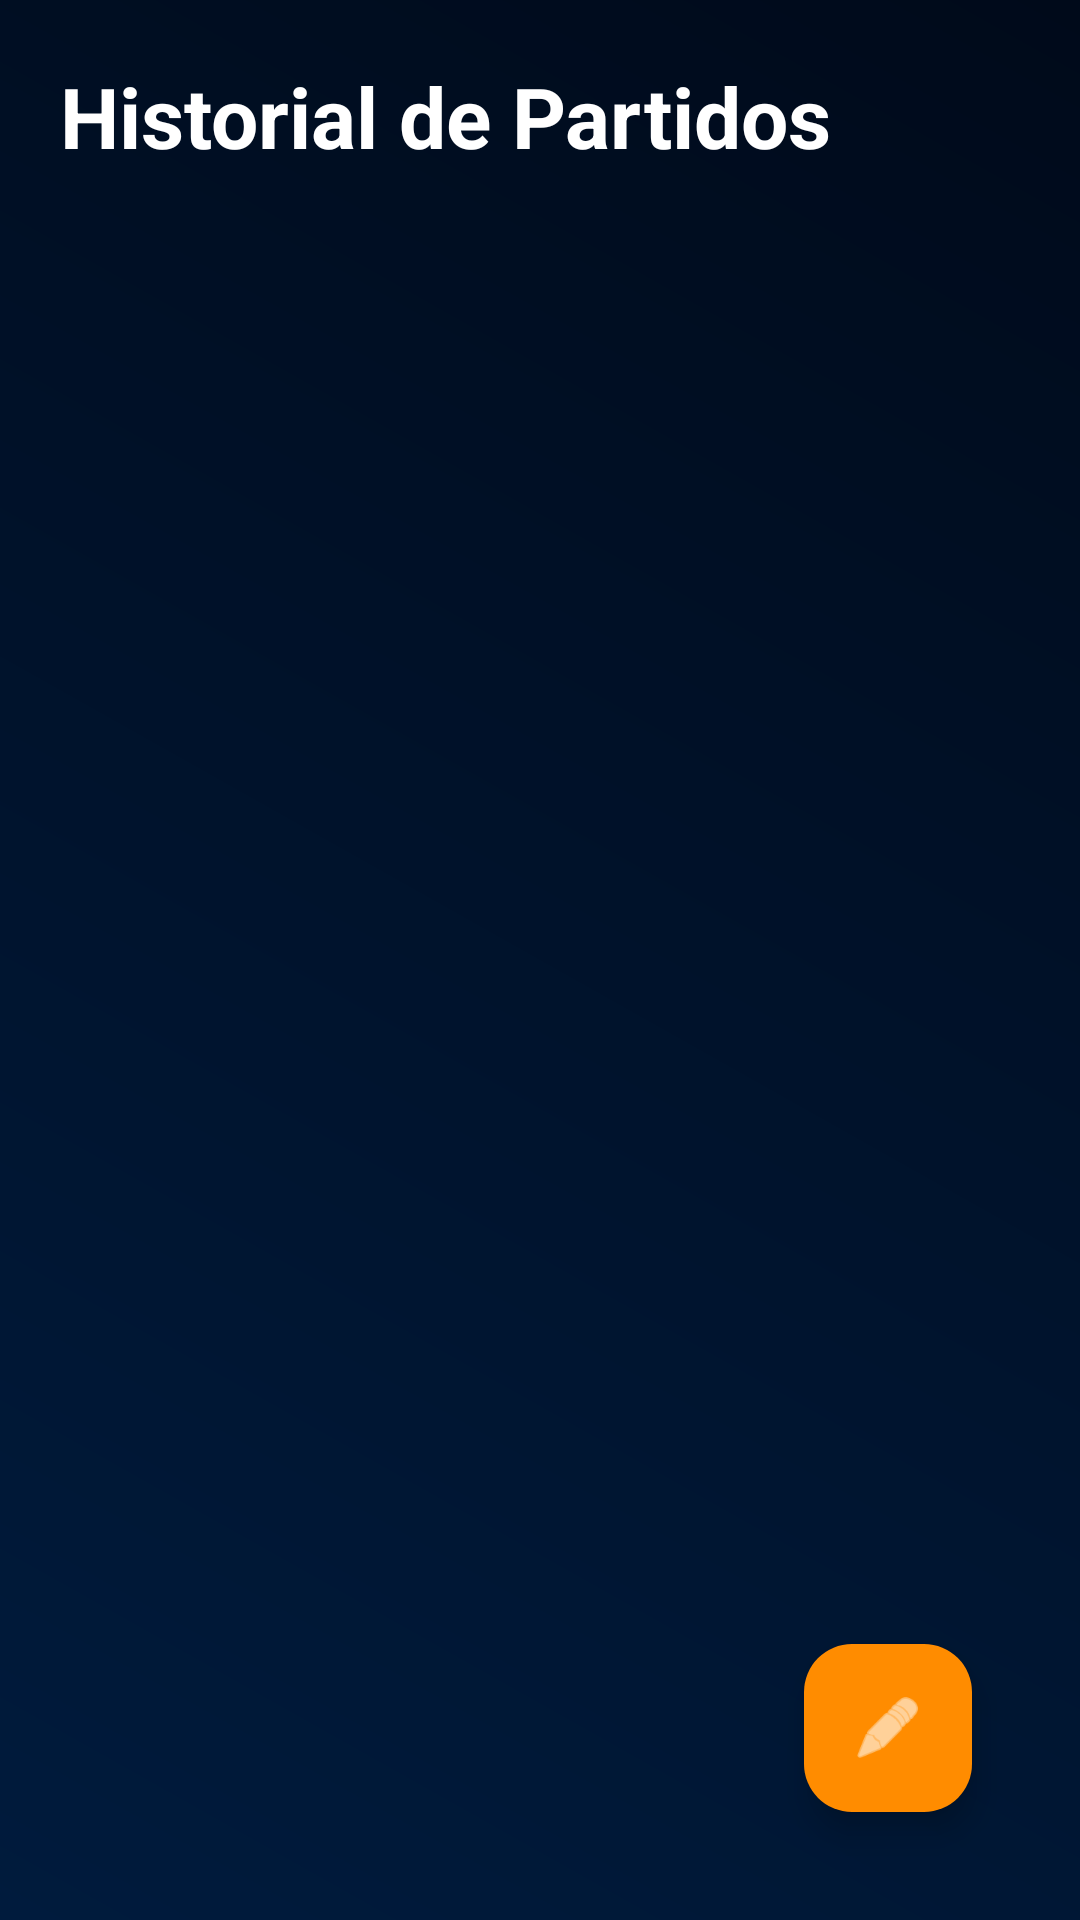

Screen size 1080px×1920px. Icon name, then its box in pixels as (x1, y1, x2, y2):
edit: (804, 1644, 972, 1812)
